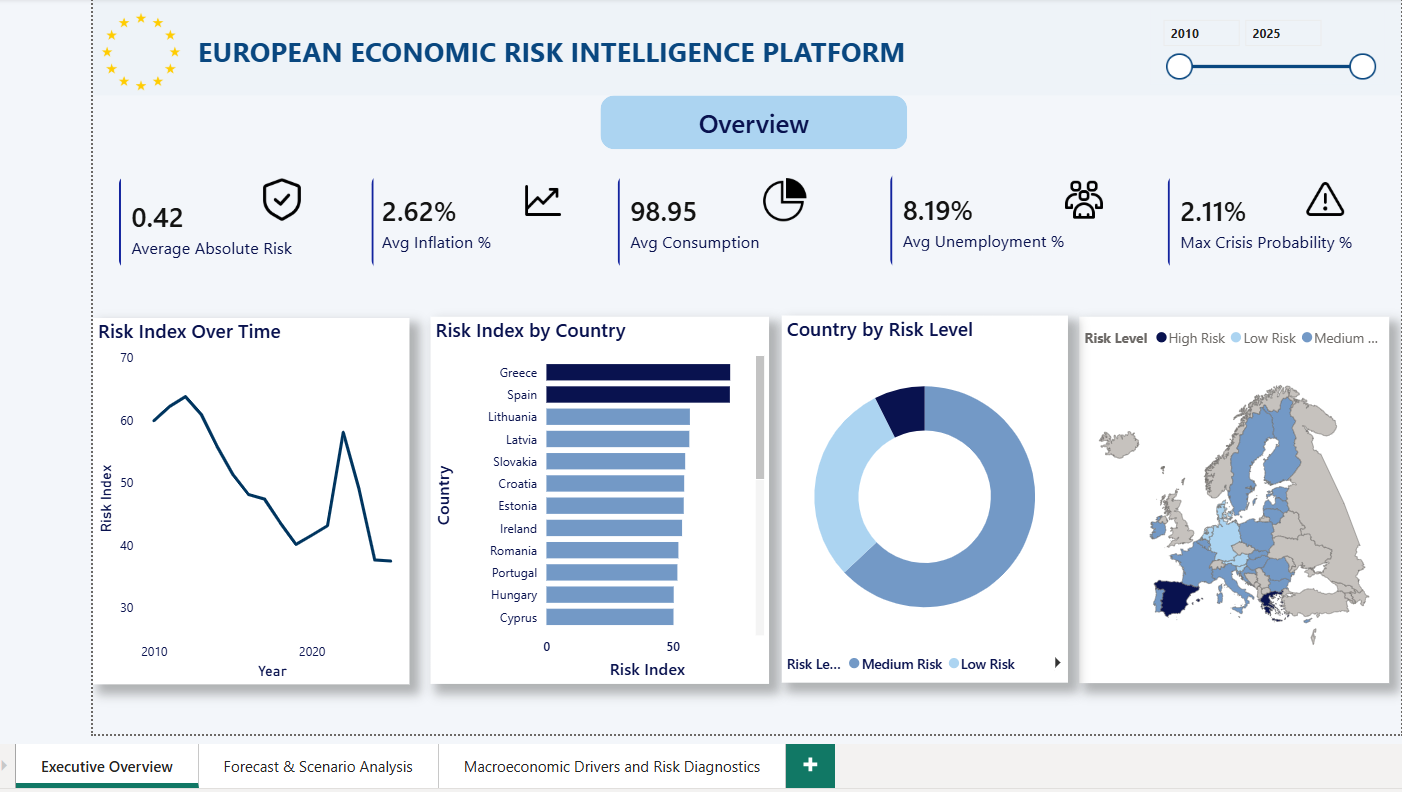

Layout of this report page (visuals, bound fields, positions):
{"tool":"powerbi","page":{"name":"Executive Overview","canvas":[1280,720],"ordinal":0},"visuals":[{"type":"shape","box":[0,0,1280.3,95.4],"z":0},{"type":"cardVisual","fields":{"Data":["Risk.Average Absolute Risk"]},"box":[8.6,155.3,239.7,128.4],"z":1000},{"type":"cardVisual","fields":{"Data":["Risk.Avg Inflation %"]},"box":[255.6,155.3,240.9,128.4],"z":2000},{"type":"cardVisual","fields":{"Data":["Risk.Avg Consumption"]},"box":[496.5,155.3,240.9,128.4],"z":3000},{"type":"cardVisual","fields":{"Data":["Risk.Avg Unemployment %"]},"box":[763,152.9,239.7,130.8],"z":4000},{"type":"cardVisual","fields":{"Data":["Risk.Max Crisis Probability %"]},"box":[1034.5,155.3,245.8,128.4],"z":5000},{"type":"slicer","fields":{"Values":["Risk.year"]},"box":[1035,11.2,228.8,72.5],"z":6000},{"type":"shapeMap","fields":{"Category":["Country Risk Summary.country"],"Value":["Avg(Country Risk Summary.Average Risk)"],"Series":["Country Risk Summary.Risk Level"]},"box":[964.8,311.8,303.3,358.3],"z":7000},{"type":"lineChart","title":"Risk Index Over Time","fields":{"Category":["Risk.year"],"Y":["Risk.Risk Index"]},"box":[0,313,309.4,358.3],"z":8000},{"type":"clusteredBarChart","title":"Risk Index by Country","fields":{"Category":["Risk.country"],"Y":["Risk.Country Risk Index"]},"box":[330.2,311.8,331.4,359.5],"z":9000},{"type":"textbox","box":[97.8,29.3,842.5,46.5],"z":10000},{"type":"image","box":[8.6,4.9,77,95.4],"z":11000},{"type":"donutChart","title":"Country by Risk Level","fields":{"Category":["Country Risk Summary.Risk Level"],"Y":["CountNonNull(Country Risk Summary.country)"]},"box":[673.8,310.6,280,359.5],"z":12000},{"type":"image","box":[935,176.2,67.5,42.5],"z":13000},{"type":"image","box":[408.8,176.2,63.8,43.8],"z":14000},{"type":"image","box":[1173.8,176.2,63.8,42.5],"z":15000},{"type":"image","box":[151.2,176.2,66.2,42.5],"z":16000},{"type":"image","box":[640,176.2,73.8,42.5],"z":17000},{"type":"shape","box":[496.2,95,300,52.5],"z":18000}]}

Visuals, with their boxes on the page's 1280x720 design canvas (x1, y1, x2, y2). These are canvas units, not pixel positions in the 1402x792 screenshot, which may show the page scaled, cropped or inside an application window:
shape: x1=0, y1=0, x2=1280, y2=95
cardVisual - Risk.Average Absolute Risk: x1=9, y1=155, x2=248, y2=284
cardVisual - Risk.Avg Inflation %: x1=256, y1=155, x2=496, y2=284
cardVisual - Risk.Avg Consumption: x1=496, y1=155, x2=737, y2=284
cardVisual - Risk.Avg Unemployment %: x1=763, y1=153, x2=1003, y2=284
cardVisual - Risk.Max Crisis Probability %: x1=1034, y1=155, x2=1280, y2=284
slicer - Risk.year: x1=1035, y1=11, x2=1264, y2=84
shapeMap - Country Risk Summary.country x Avg(Country Risk Summary.Average Risk): x1=965, y1=312, x2=1268, y2=670
"Risk Index Over Time" lineChart: x1=0, y1=313, x2=309, y2=671
"Risk Index by Country" clusteredBarChart: x1=330, y1=312, x2=662, y2=671
textbox: x1=98, y1=29, x2=940, y2=76
image: x1=9, y1=5, x2=86, y2=100
"Country by Risk Level" donutChart: x1=674, y1=311, x2=954, y2=670
image: x1=935, y1=176, x2=1002, y2=219
image: x1=409, y1=176, x2=473, y2=220
image: x1=1174, y1=176, x2=1238, y2=219
image: x1=151, y1=176, x2=217, y2=219
image: x1=640, y1=176, x2=714, y2=219
shape: x1=496, y1=95, x2=796, y2=148
